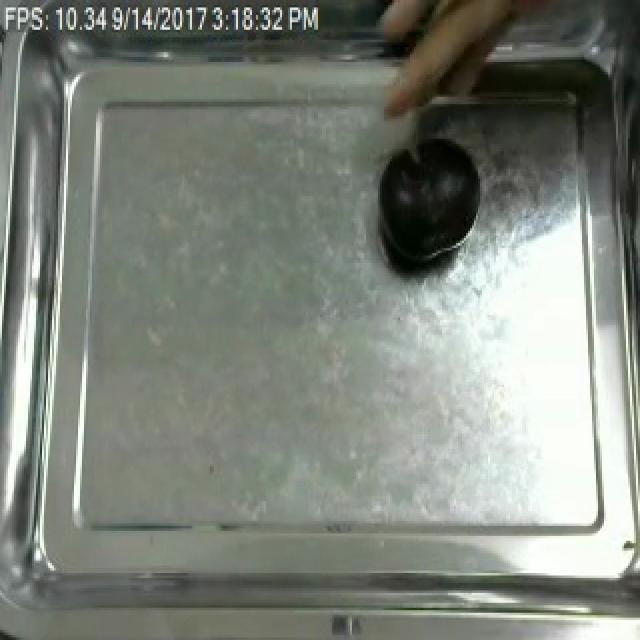Fruit: (372, 137, 486, 276)
